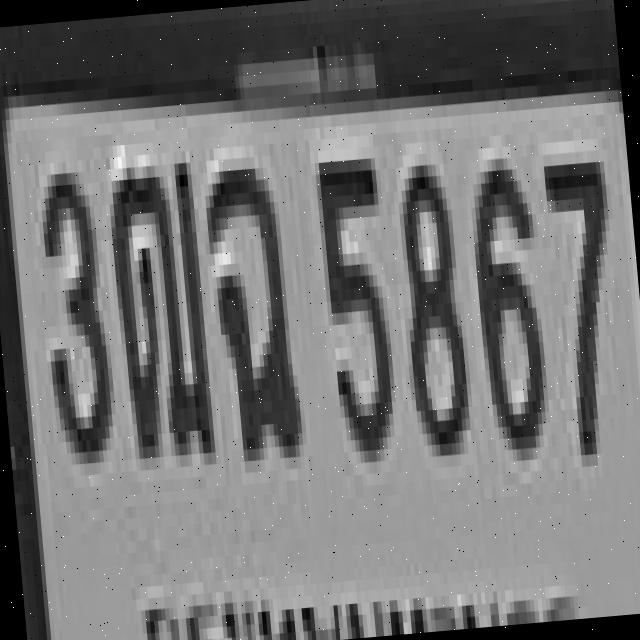18ChorChing: (198, 154, 298, 451)
27ThorPhuThao: (101, 150, 211, 460)
3: (30, 159, 110, 454)
5: (310, 146, 396, 453)
6: (462, 144, 548, 452)
7: (538, 150, 624, 456)
8: (390, 152, 467, 446)
